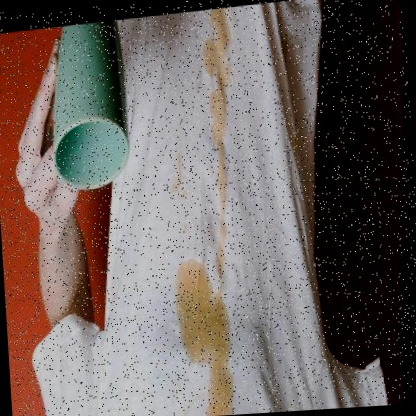coffee: (172, 259, 233, 367), (195, 12, 234, 86), (208, 92, 232, 210), (208, 370, 234, 416)
